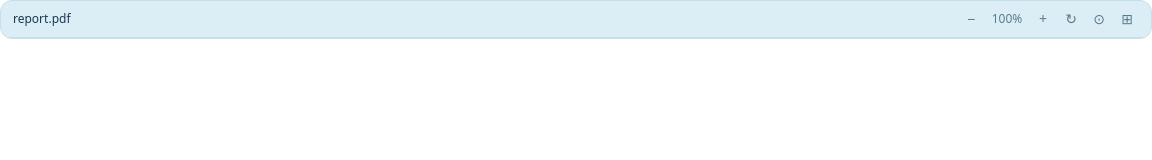
Test: DocumentPreviewPanel › decrements zoom on zoom-out click
The image size is (1152, 160).
What coordinates should you click on to do the following:
click the button named "zoom out"
I would click on:
 (971, 19)
Its box is [959, 7, 983, 31].
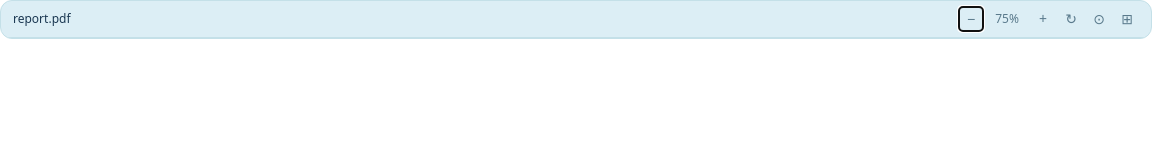
Now the text with test id "zoom-label" reads "75%", box [995, 10, 1019, 27]
